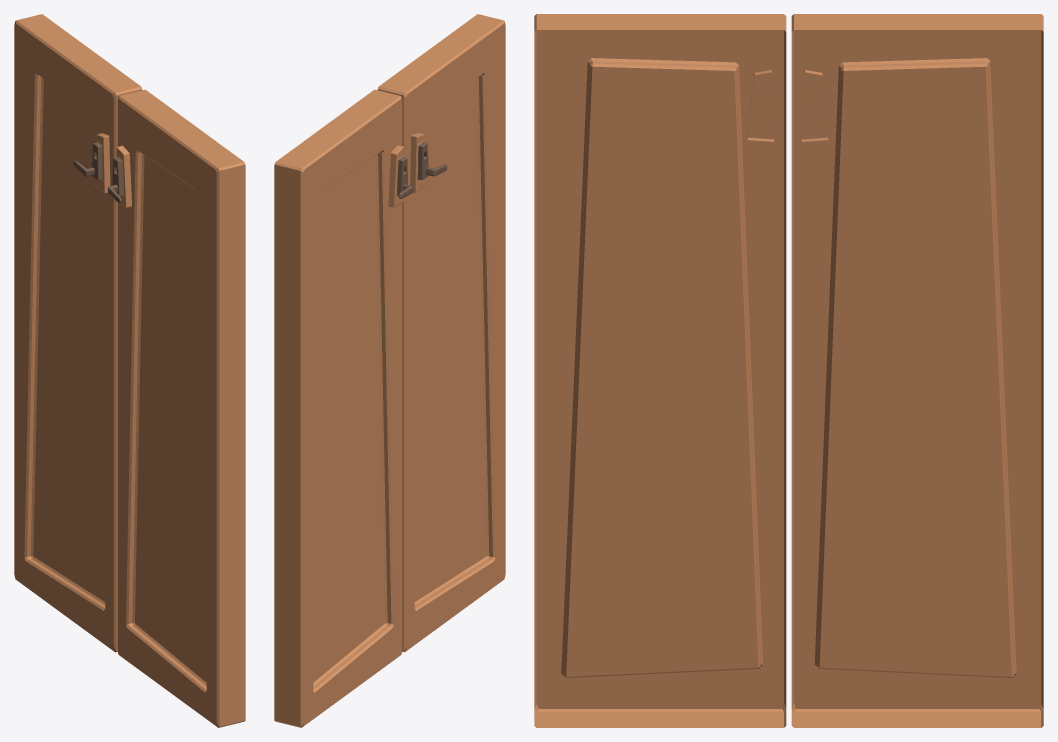
Rendered from luigi_mainDoor.fbx.
3 views of the same model, side by side, from view 1: azimuth 30°, elevation 25°; view 2: azimuth 150°, elevation 25°; view 3: azimuth 270°, elevation 25° (orthographic). The views are drawn at different scales.
Parts seen in each view (by area): view 1: Cube.004; view 2: Cube.004; view 3: Cube.004.
Part boxes in pixels (x1=…): Cube.004: x1=14, y1=14, x2=245, y2=727; Cube.004: x1=274, y1=14, x2=505, y2=727; Cube.004: x1=534, y1=14, x2=1043, y2=727.
Size of the model in its own units: 28.4 by 319 by 211.
